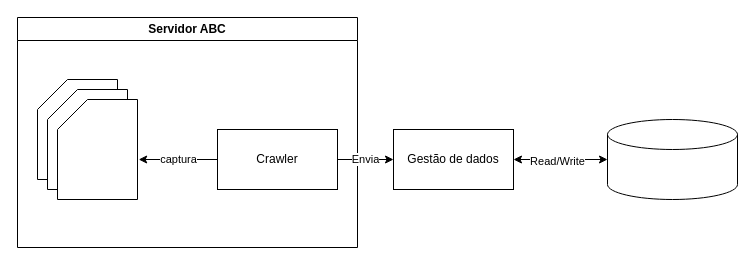
Image size: 755x265. Some labels were removed from this diagram. Here are the shapes that lost their labels. From the top down, the centre of each, then its label:
At (x=97, y=149): "Arquivos".
At (x=672, y=159): "Inverted Index DB".
